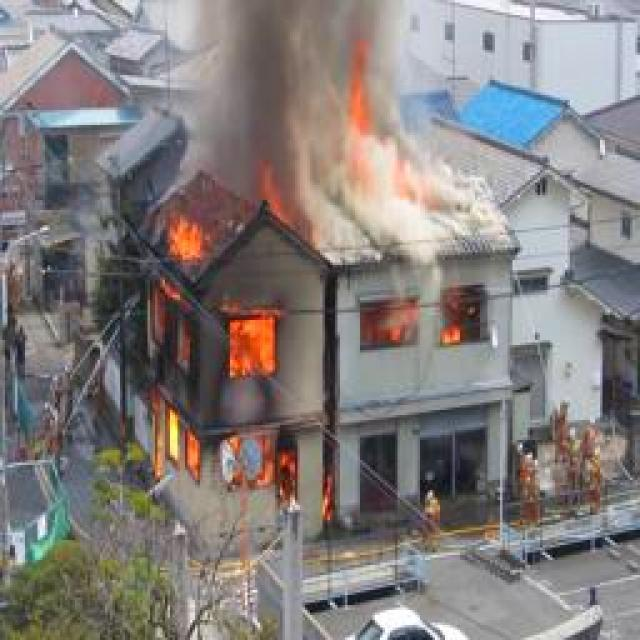Fire: (144, 207, 292, 503), (361, 301, 491, 349), (352, 57, 375, 137)
